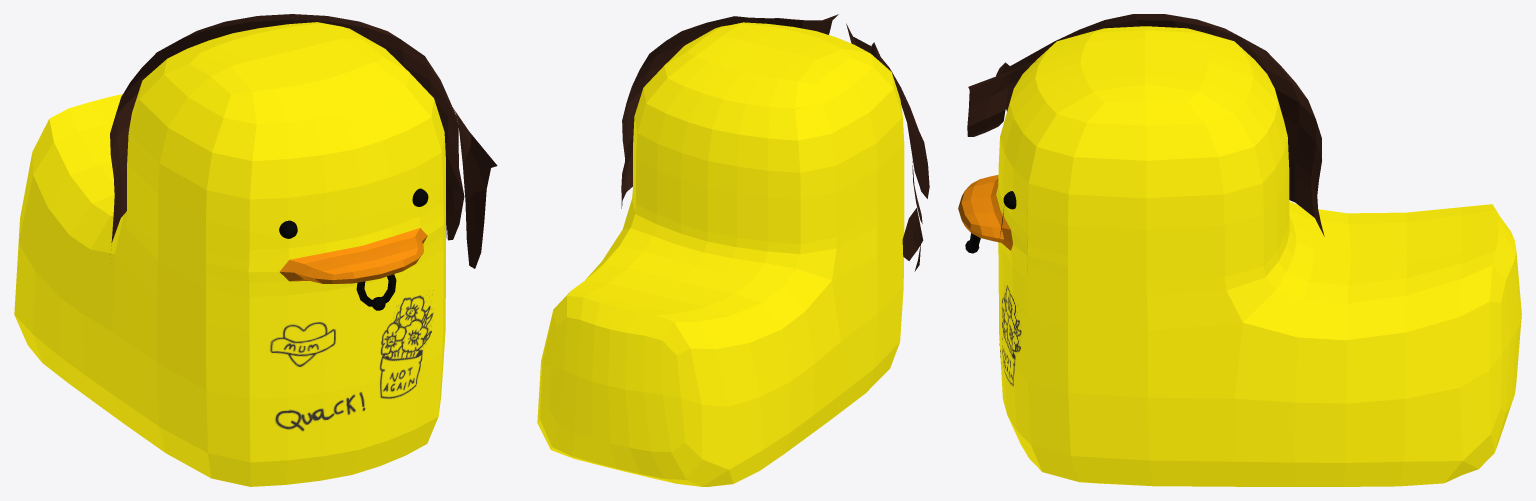
The model's file is Duck_Me.glb.
3 views of the same model, side by side, from view 1: azimuth 30°, elevation 25°; view 2: azimuth 150°, elevation 25°; view 3: azimuth 270°, elevation 25° (orthographic). The views are drawn at different scales.
Parts seen in each view (by area): view 1: Duck, Hair, NoseRing; view 2: Duck, Hair; view 3: Duck, Hair.
Part boxes in pixels (x1,y1,x2,y2): Duck: (14,22,445,486); Hair: (110,14,497,268); NoseRing: (356,274,396,310); Duck: (537,22,904,486); Hair: (621,14,929,271); Duck: (958,26,1521,486); Hair: (967,14,1324,238).
Size of the model in its own units: 2.62 by 2.98 by 3.94.
4 materials, 1 textured.
